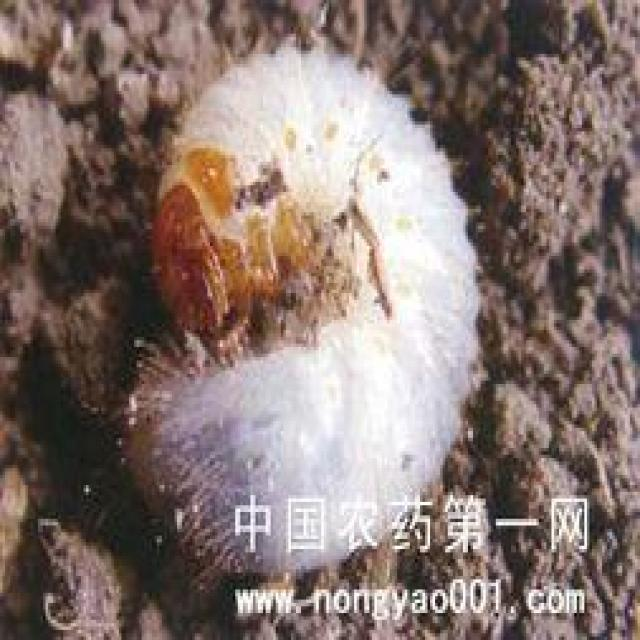Grub-Adult-: (131, 37, 488, 589)
